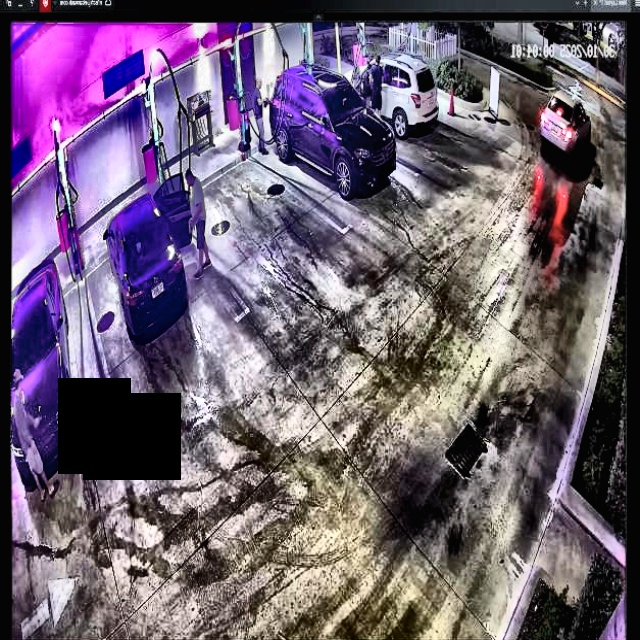Car: (269, 64, 397, 195), (103, 173, 192, 341)
